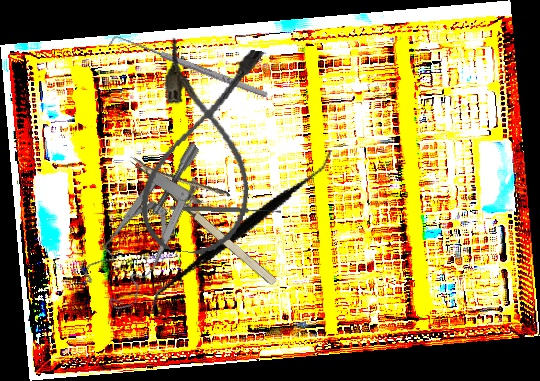Cannula: (134, 36, 272, 261)
Hook Surgical: (108, 30, 270, 106)
Needle Holder: (128, 127, 298, 290)
Spatula Surgical: (149, 111, 334, 353)
Speculum: (57, 141, 250, 318)
Surgical Spoon: (169, 205, 282, 215)
